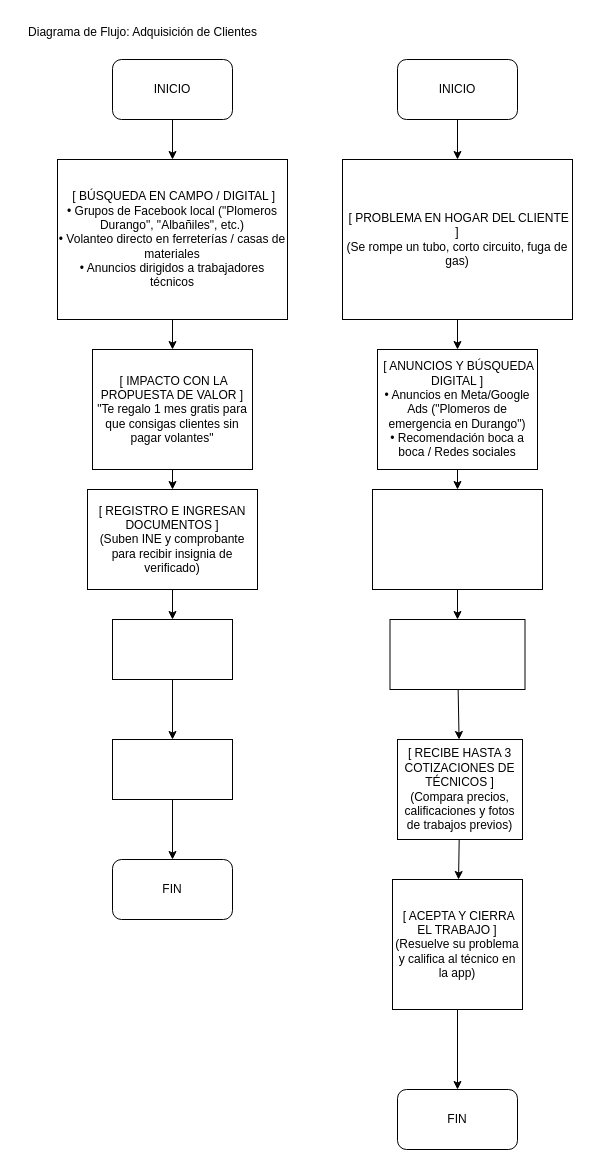
This 590x1167 diagram has some shape labels left out. The centre of each missing label's shape, as x and y in pixels:
"[ CREA Y PUBLICA SU SOLICITUD ] (Sube foto/video de la falla + ubicación)" goes at point (457, 654).
"[ DESCARGA LA APP O ENTRA A LA WEB ] (Registro rápido en menos de 1 minuto)" goes at point (457, 539).
"REVISIÓN Y APROBACIÓN" goes at point (172, 649).
"TECNICO LISTO PARA RECIBIR ALERTAS" goes at point (172, 769).
